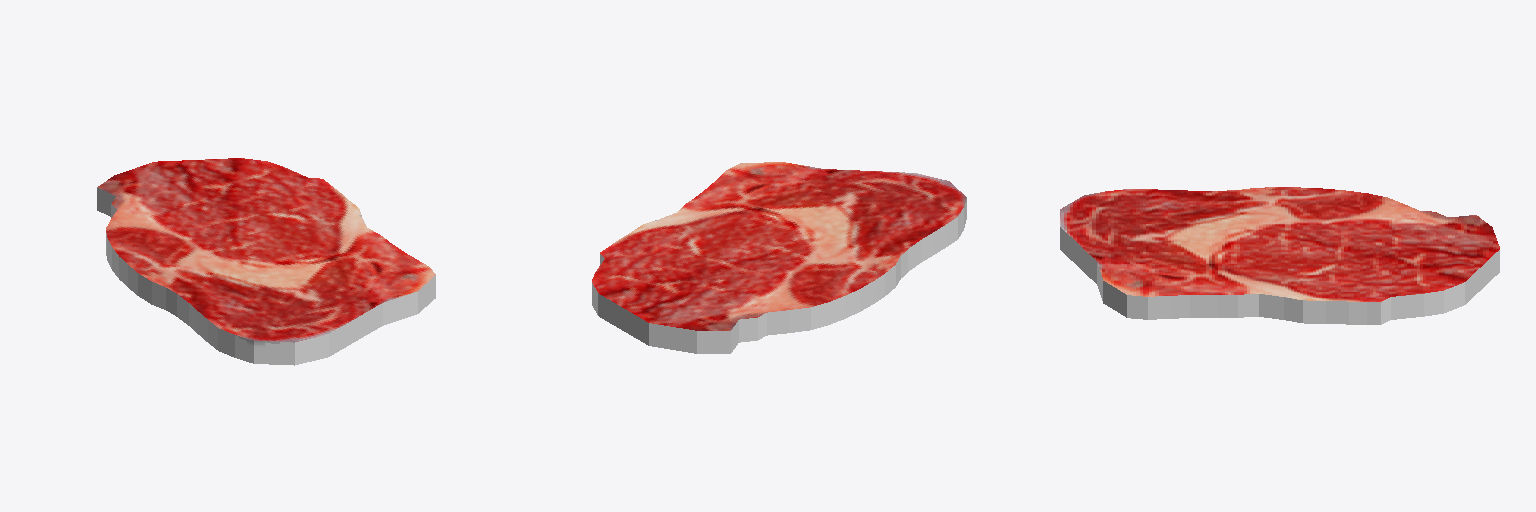
3 views of the same model, side by side, from view 1: azimuth 30°, elevation 25°; view 2: azimuth 150°, elevation 25°; view 3: azimuth 270°, elevation 25° (orthographic).
Parts seen in each view (by area): view 1: Meat; view 2: Meat; view 3: Meat.
Boxes of the visible parts, x1=… form: Meat: x1=97, y1=158, x2=435, y2=365; Meat: x1=592, y1=162, x2=966, y2=353; Meat: x1=1060, y1=187, x2=1499, y2=324.
Bounding box in the file's own units: 1.57 × 0.1468 × 2.55.
1 materials, 1 textured.